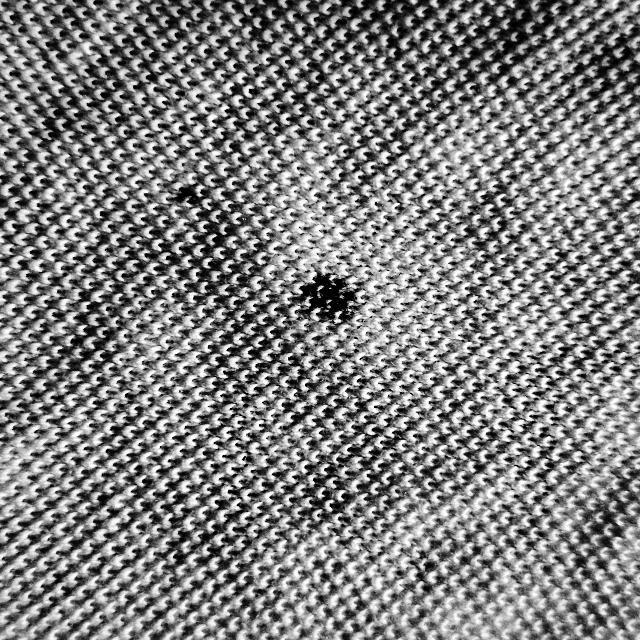Color_defect: (292, 267, 371, 324)
